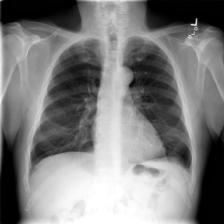normal: (25, 34, 196, 179)
